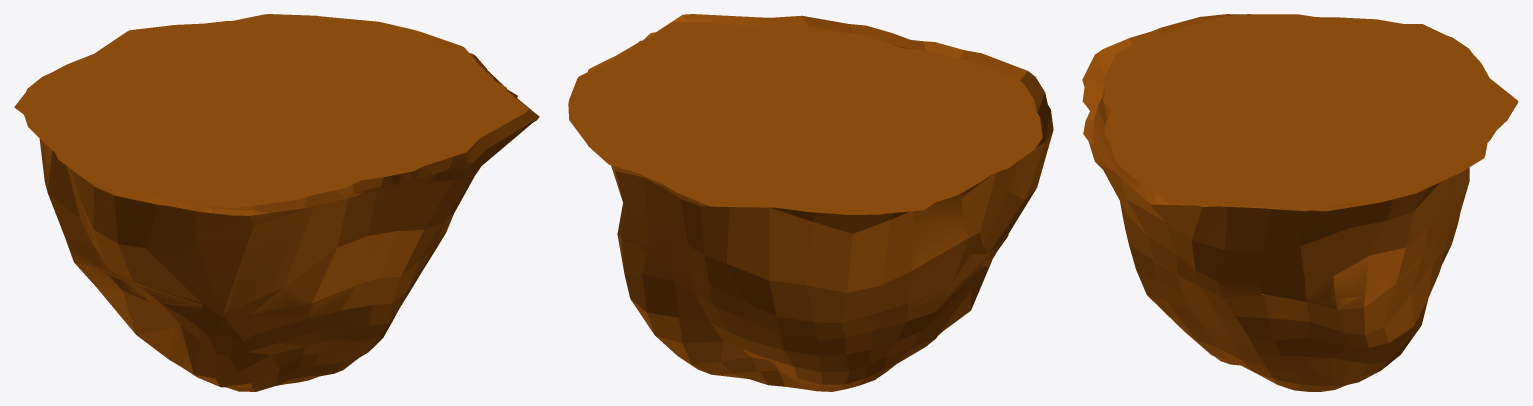
3 renders of one model, left to right at view 1: azimuth 30°, elevation 25°; view 2: azimuth 150°, elevation 25°; view 3: azimuth 270°, elevation 25°, orthographic. The views are drawn at different scales.
Visible parts, largest first — view 1: Toposolid Toposolid 2 [589703].002, Toposolid Toposolid 2 [589703].001; view 2: Toposolid Toposolid 2 [589703].002, Toposolid Toposolid 2 [589703].001; view 3: Toposolid Toposolid 2 [589703].002, Toposolid Toposolid 2 [589703].001.
Boxes of the visible parts, left/top/right/bottom form: Toposolid Toposolid 2 [589703].002: left=14, top=14, right=528, bottom=207; Toposolid Toposolid 2 [589703].001: left=39, top=39, right=539, bottom=391; Toposolid Toposolid 2 [589703].002: left=568, top=22, right=1042, bottom=214; Toposolid Toposolid 2 [589703].001: left=579, top=14, right=1053, bottom=391; Toposolid Toposolid 2 [589703].002: left=1103, top=14, right=1518, bottom=211; Toposolid Toposolid 2 [589703].001: left=1082, top=14, right=1469, bottom=391.
Bounding box in the file's own units: 1117 × 659 × 1044.
